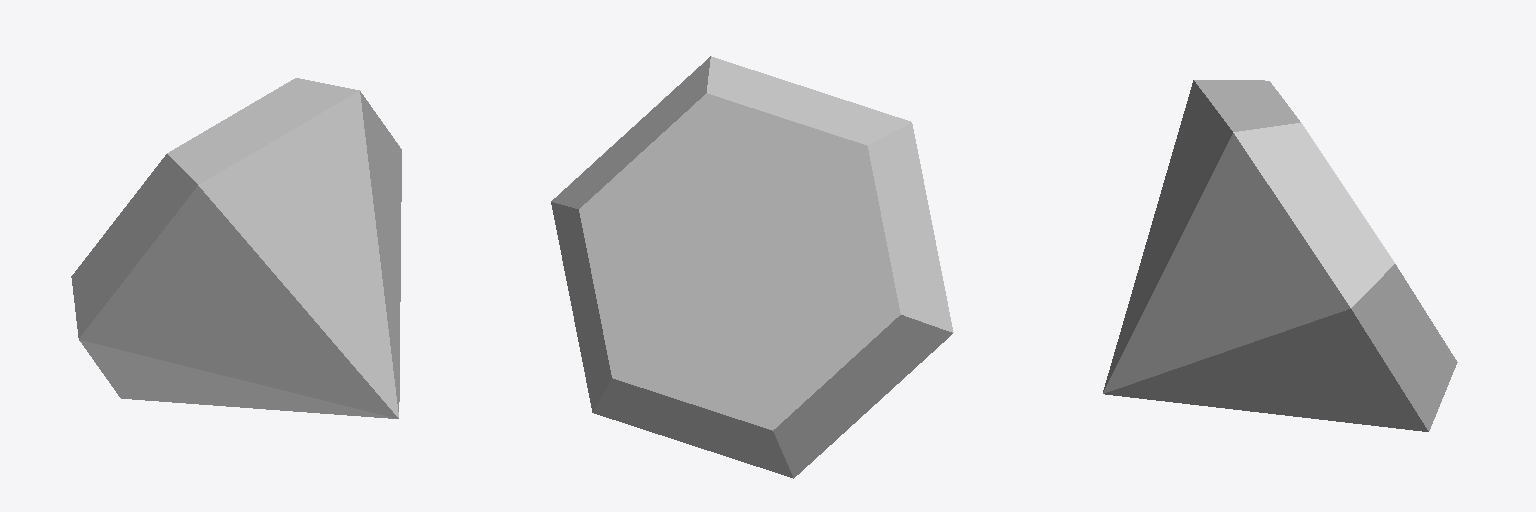
The model's file is gem.obj.
3 views of the same model, side by side, from view 1: azimuth 30°, elevation 25°; view 2: azimuth 150°, elevation 25°; view 3: azimuth 270°, elevation 25° (orthographic).
Parts seen in each view (by area): view 1: gem; view 2: gem; view 3: gem.
Boxes of the visible parts, x1=… form: gem: x1=71, y1=78, x2=401, y2=418; gem: x1=551, y1=56, x2=953, y2=478; gem: x1=1103, y1=80, x2=1457, y2=431.
Bounding box in the file's own units: 1.35 × 1.16 × 1.14.